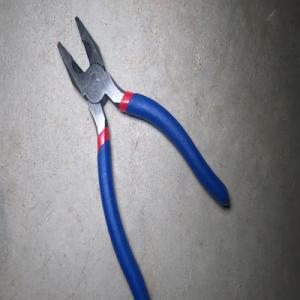Pliers: (56, 15, 230, 300)
